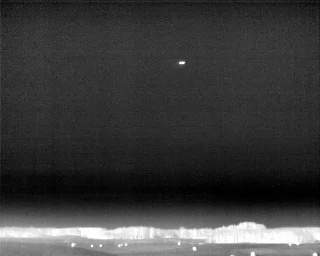AIRPLANE: (177, 58, 187, 68)
